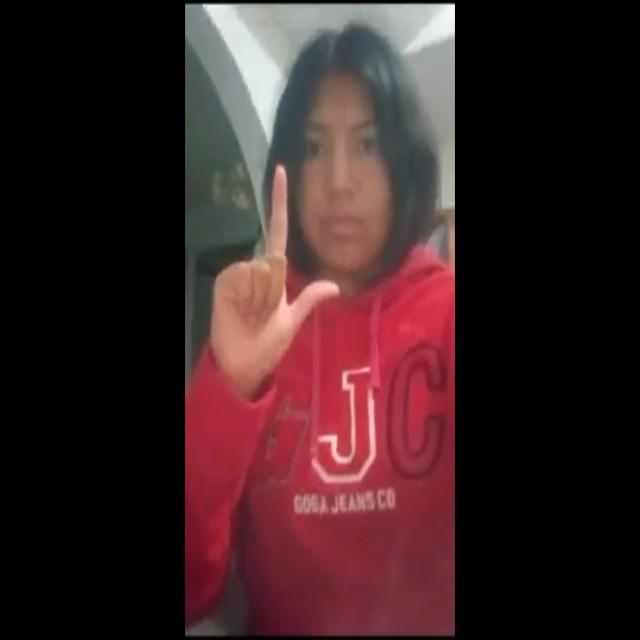L: (209, 143, 349, 387)
